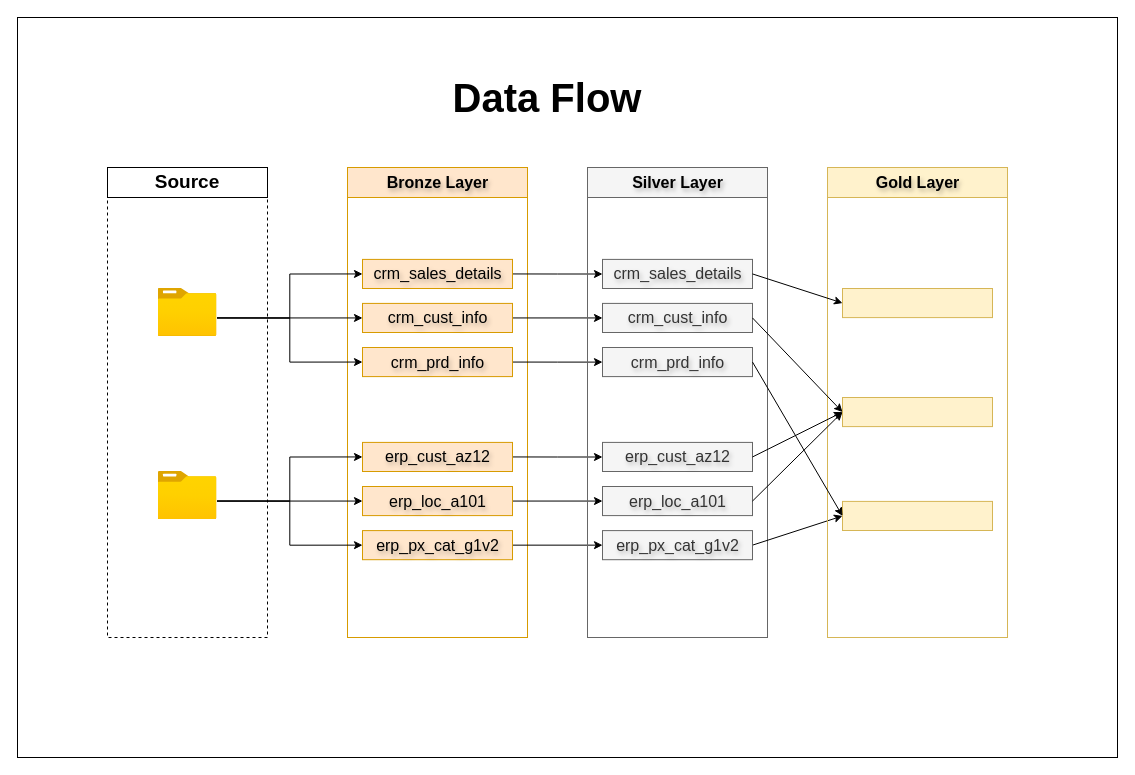
Some shapes in this 1135 by 775 pixel diagram are drawn without their labels. Each missing label, with the centre of its shape:
CRM: point (187, 312)
dim_customers: point (917, 411)
dim_products: point (917, 515)
ERP: point (187, 495)
fact_sales: point (917, 303)
